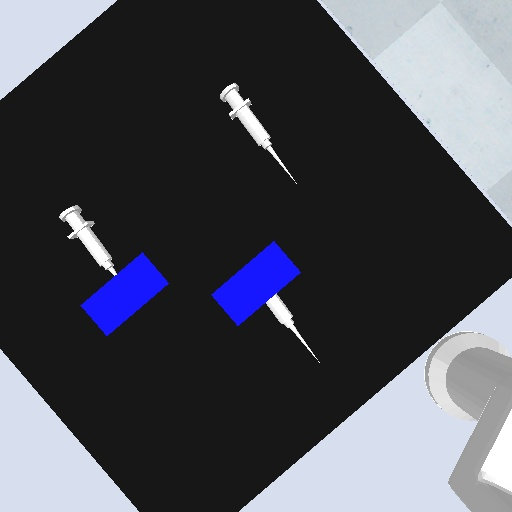jeringuilla: (218, 80, 300, 188), (263, 290, 325, 368), (57, 202, 119, 278)
